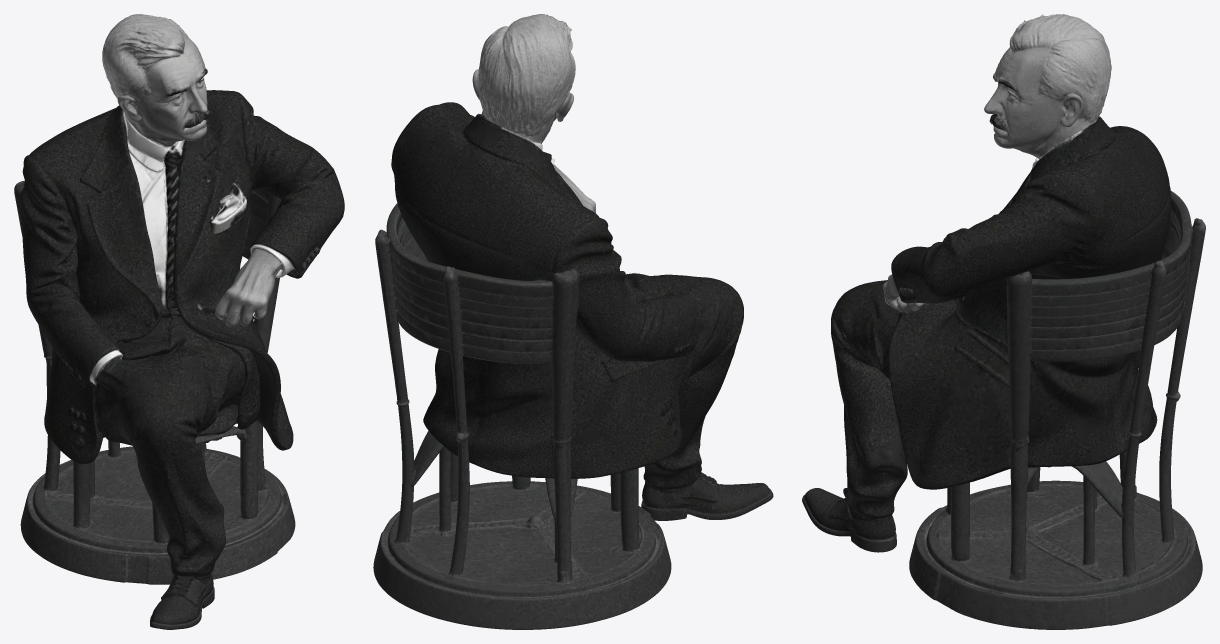
File: Meshy_AI_Pensive_Portrait_Agai_1025063335_texture-v1.glb
The picture shows the model from 3 angles, left to right: view 1: azimuth 30°, elevation 25°; view 2: azimuth 150°, elevation 25°; view 3: azimuth 270°, elevation 25°; orthographic projection. The views are drawn at different scales.
Bounding box in the file's own units: 0.9917 × 1.9 × 1.28.
Materials: 1 (1 with a texture image).
